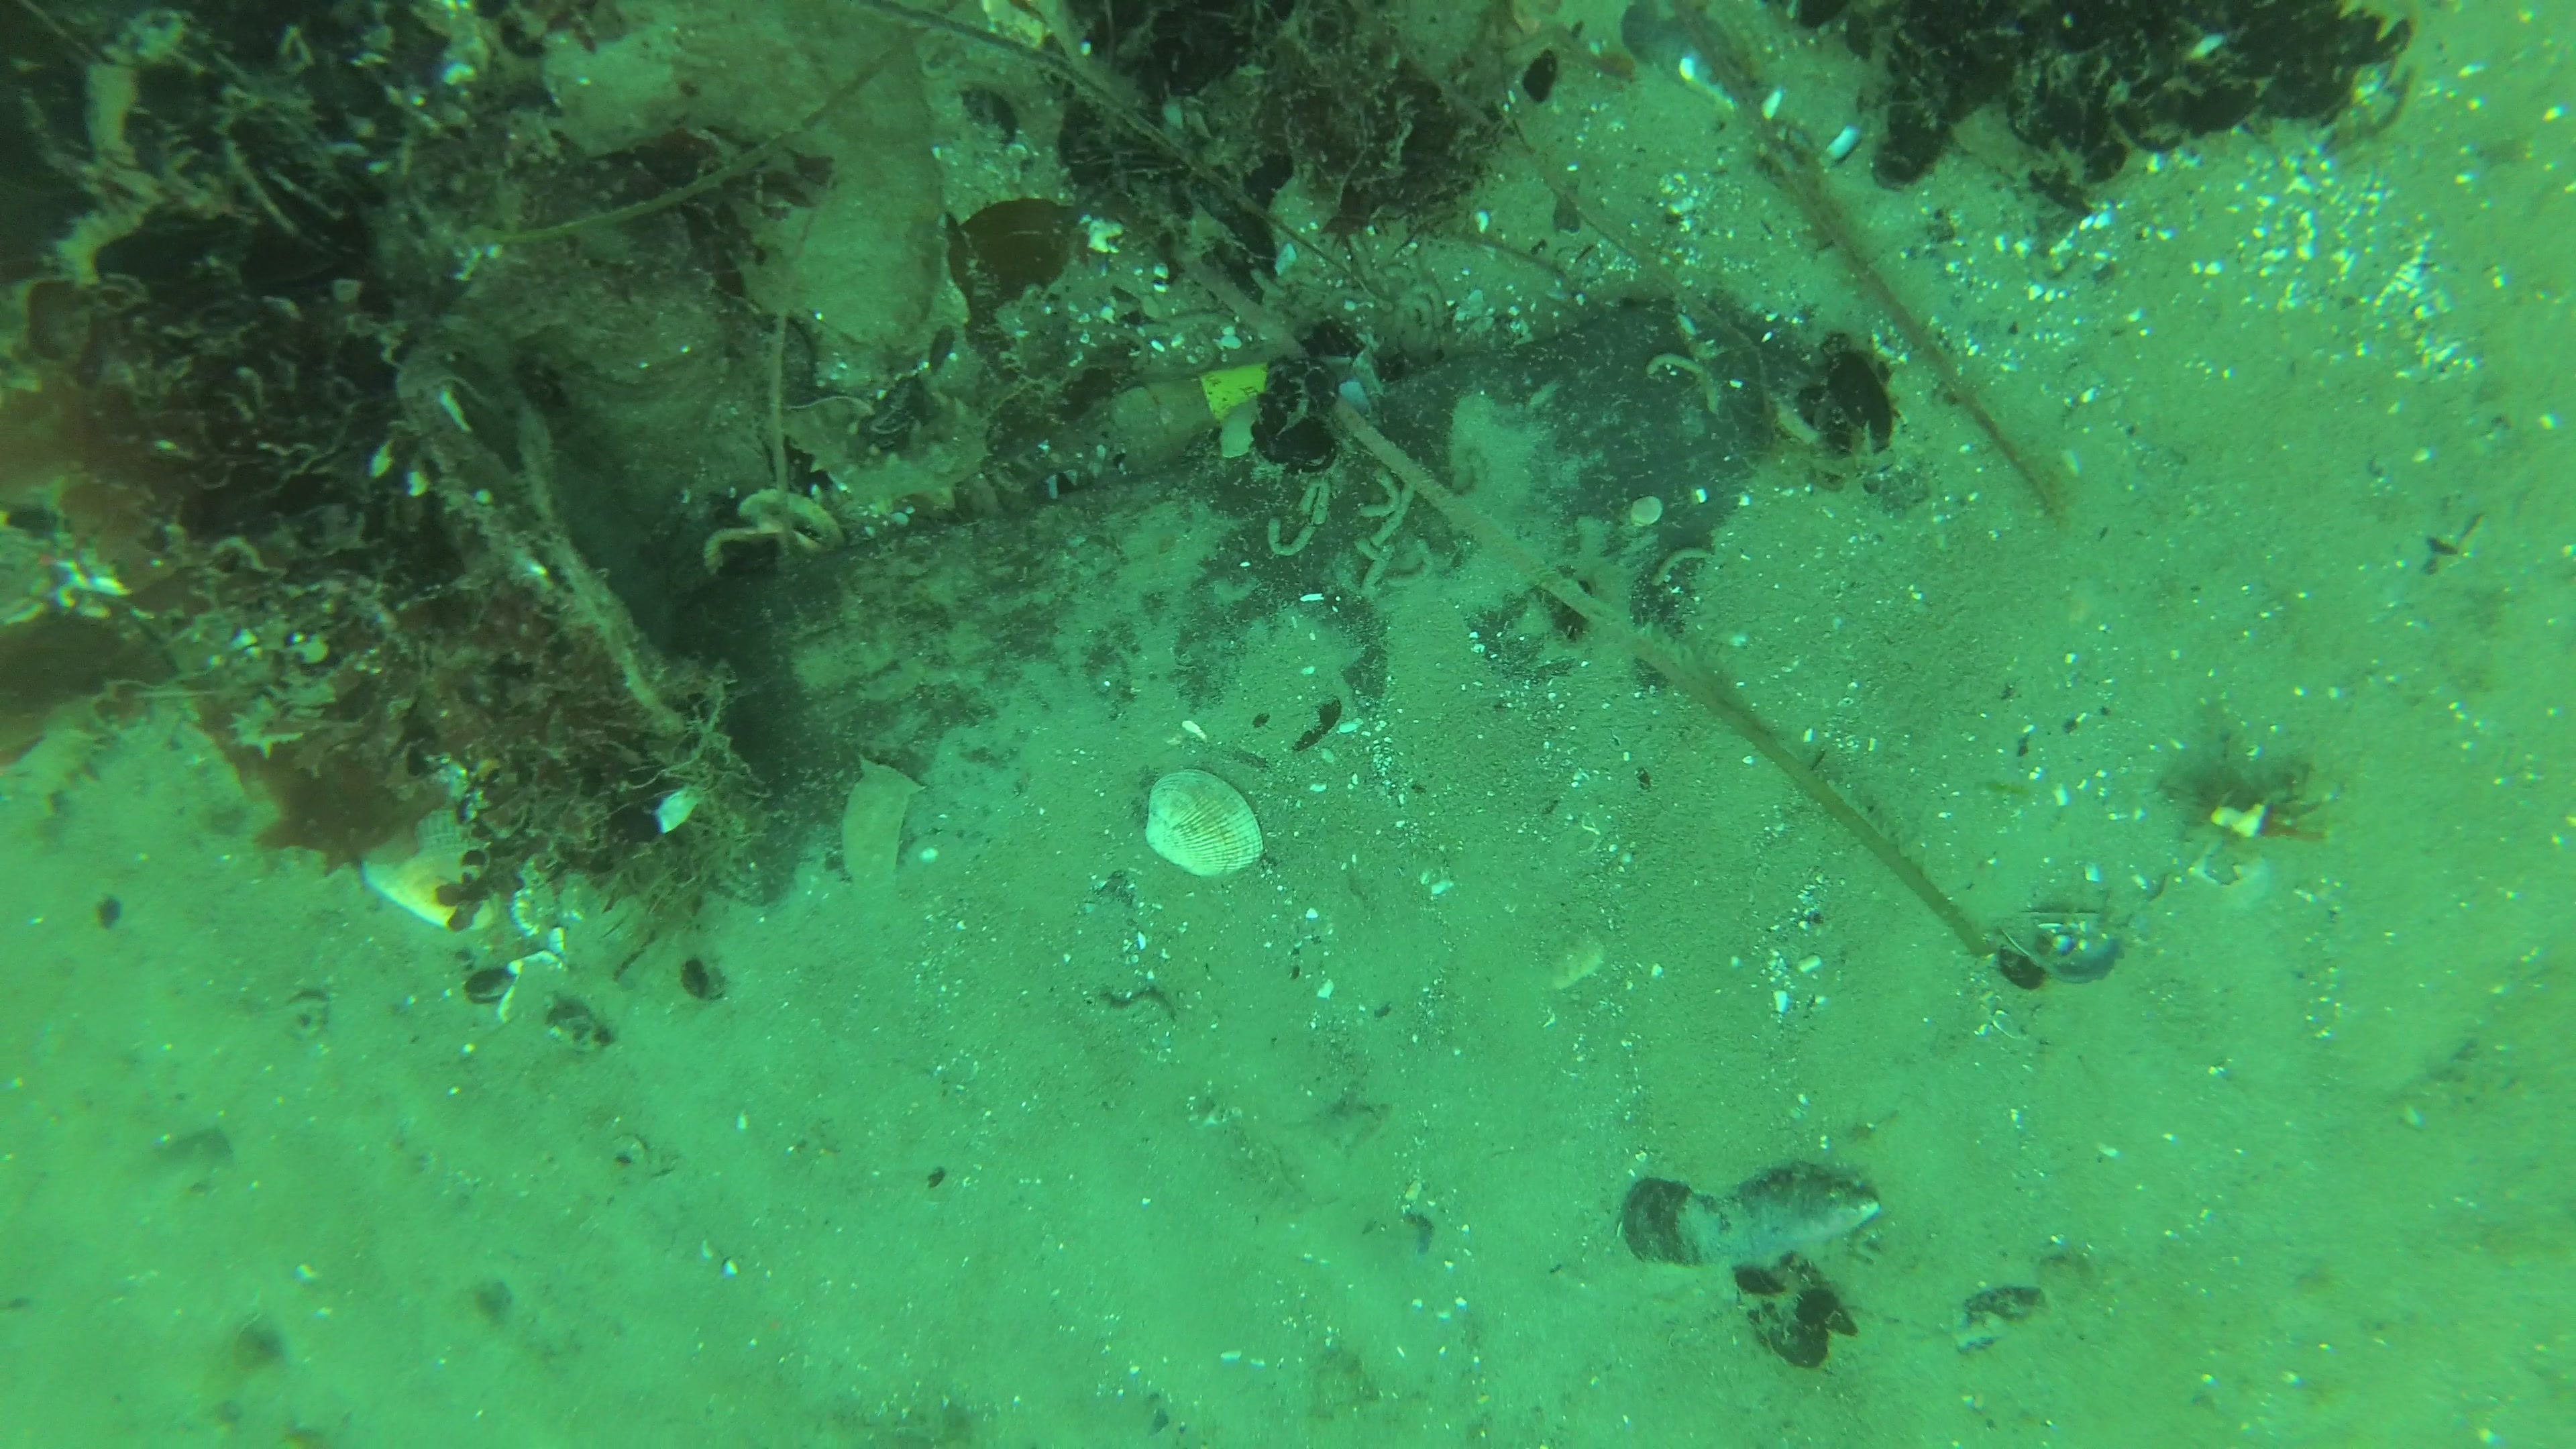scallop: (363, 803, 515, 932), (1143, 763, 1263, 879), (1626, 497, 1667, 529)
